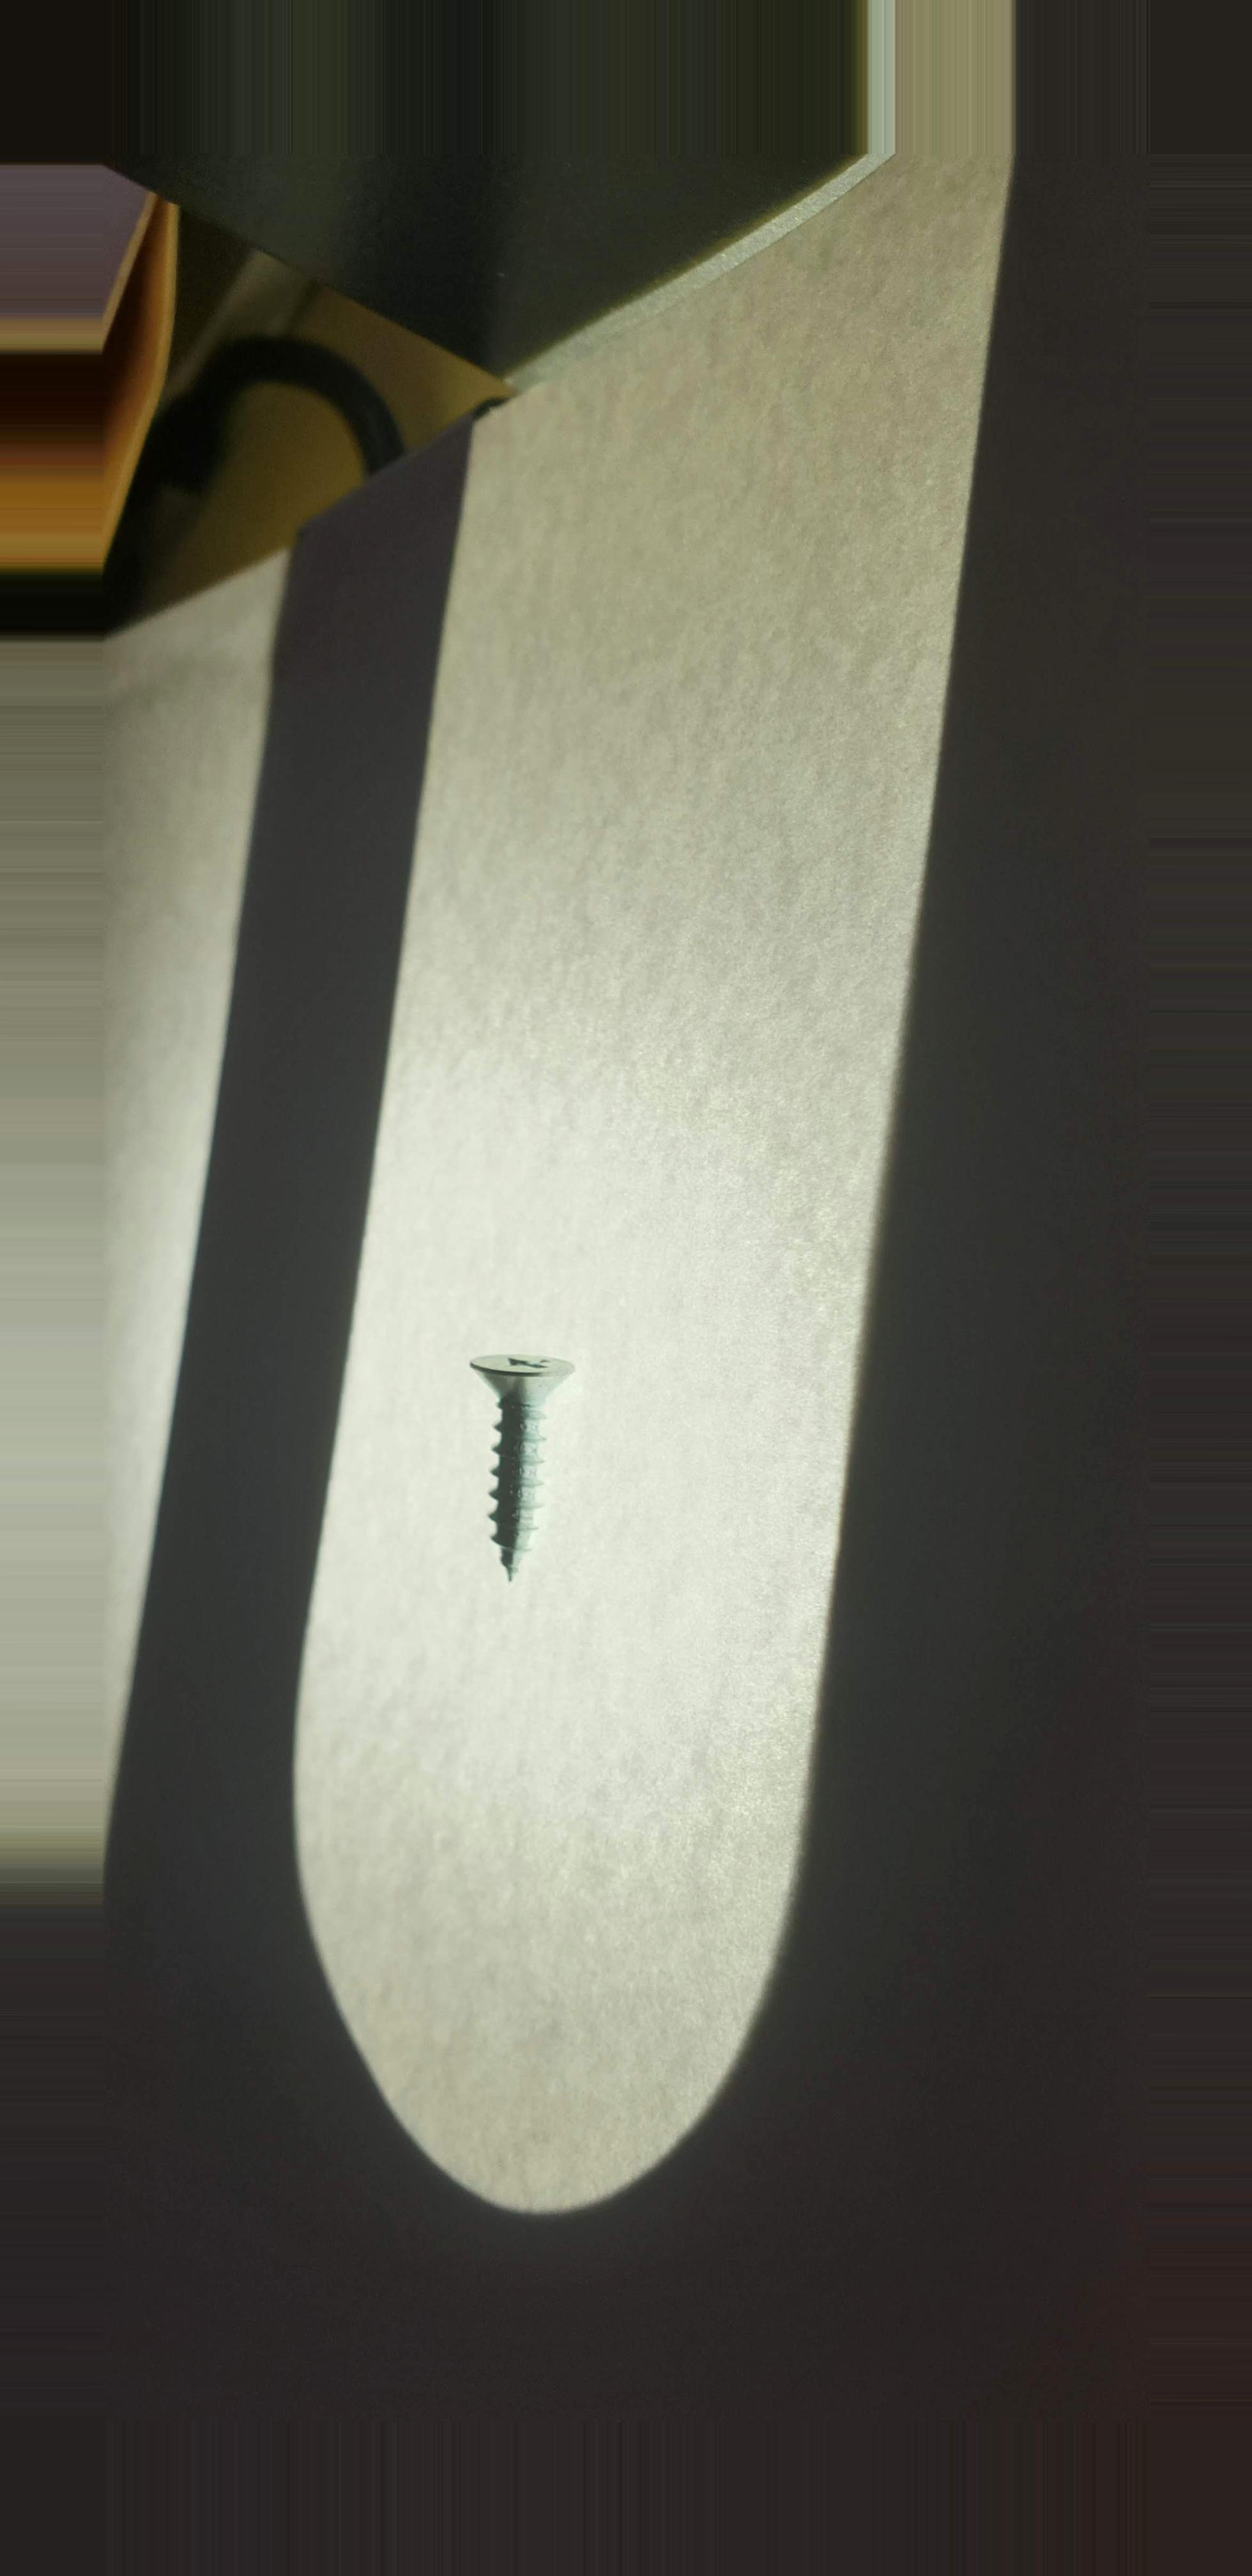S003: (439, 1308, 608, 1610)
